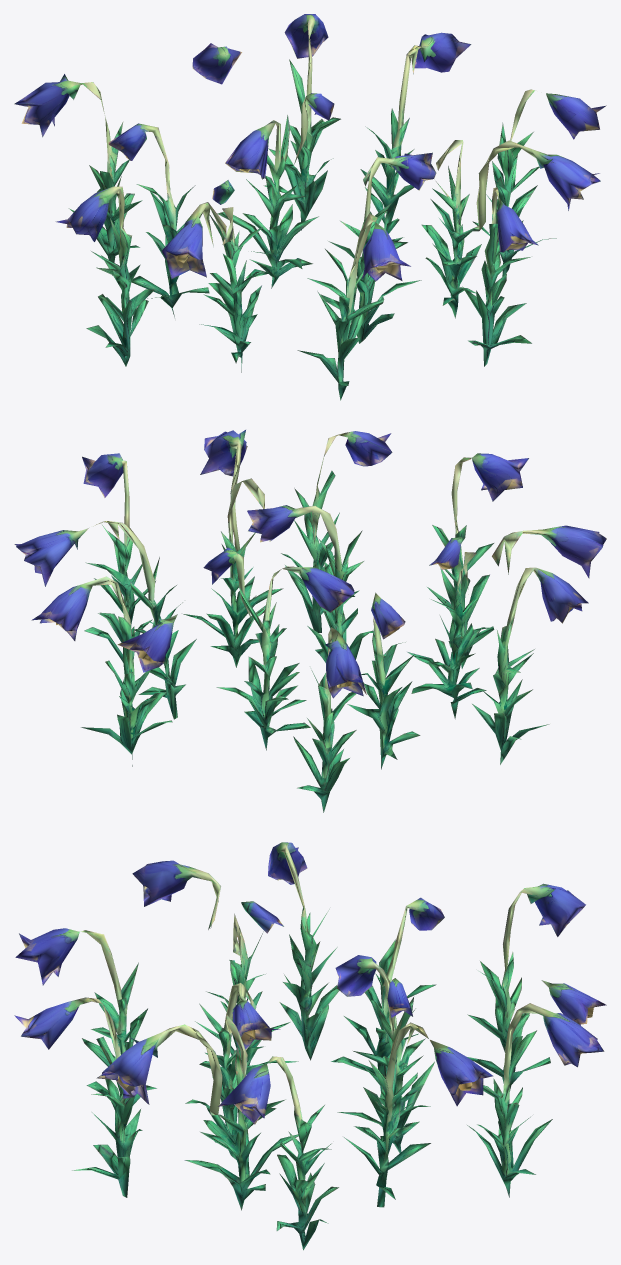
3 views of the same model, one above another, from view 1: azimuth 30°, elevation 25°; view 2: azimuth 150°, elevation 25°; view 3: azimuth 270°, elevation 25° (orthographic). The views are drawn at different scales.
Parts seen in each view (by area): view 1: Mesh_0; view 2: Mesh_0; view 3: Mesh_0.
Part boxes in pixels (x1,y1,x2,y2): Mesh_0: (14, 14, 606, 400); Mesh_0: (14, 430, 606, 812); Mesh_0: (14, 842, 606, 1250).
Bounding box in the file's own units: 1.92 × 0.6968 × 1.8.
1 material, 1 textured.
